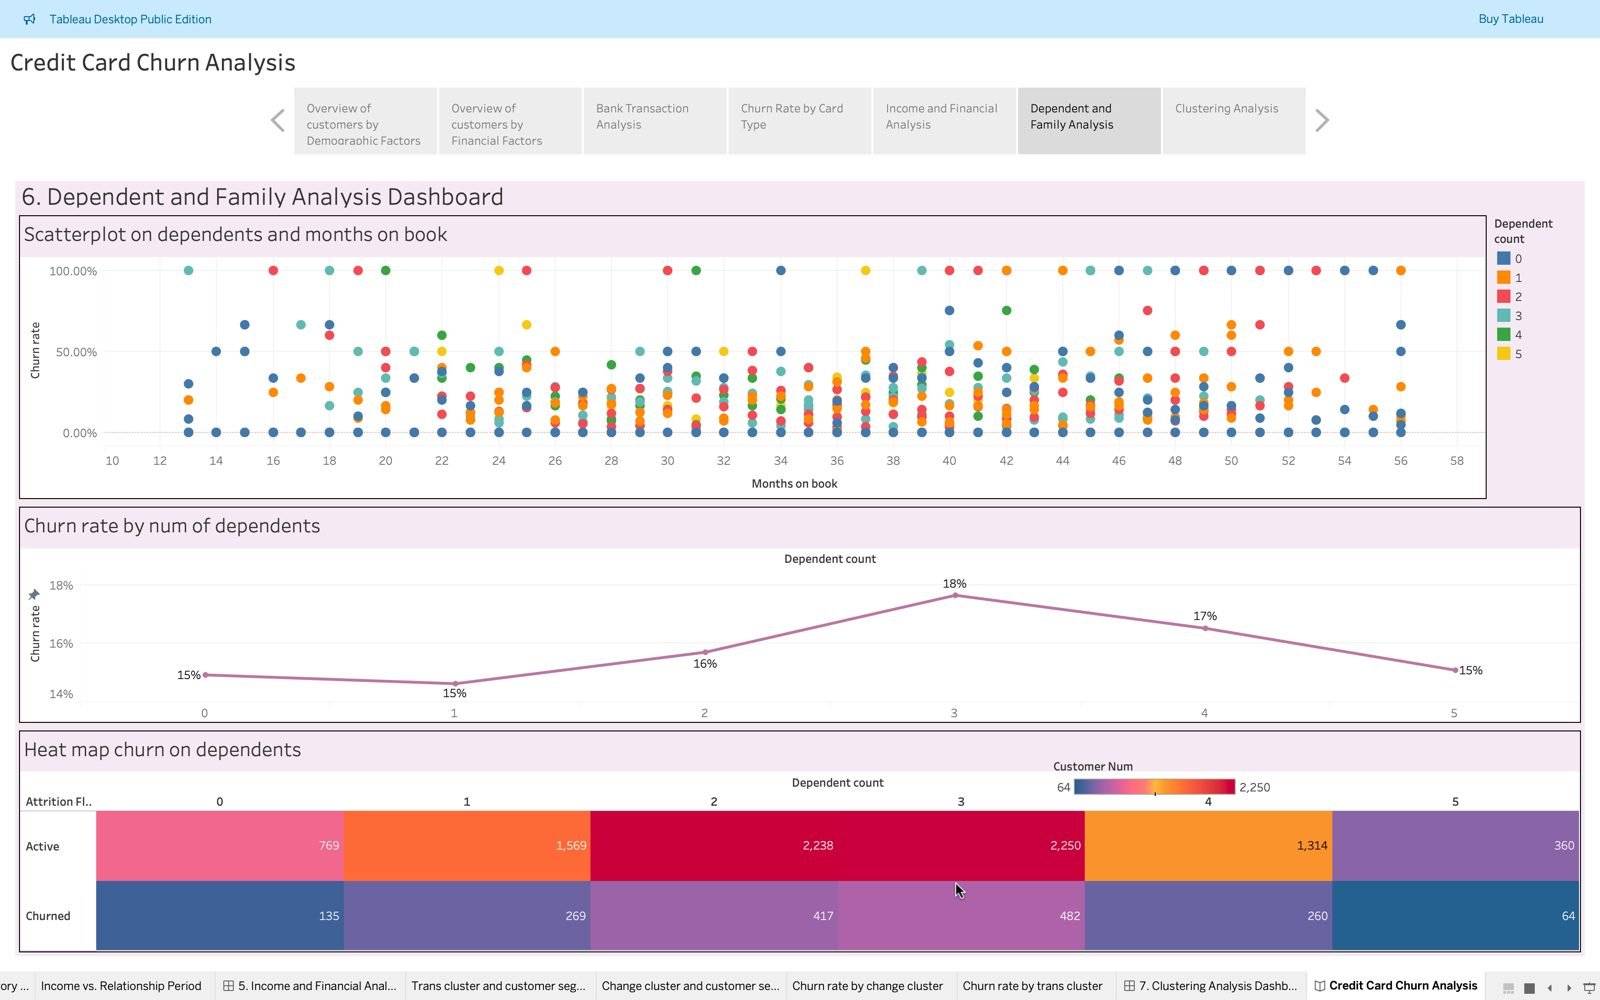

This screenshot's page, from the dashboard's own definition file:
{"tool":"tableau","page":{"name":"6. Dependent and Family Analysis Dashboard","canvas":[1000,1000],"units":"permille","ordinal":5},"visuals":[{"type":"title","box":[5.5,8.7,989.1,34.9]},{"type":"worksheet","title":"Scatterplot on dependents and months on book","mark":"Circle","rows":["Calculation_5717460502736887826"],"cols":["Months_on_book"],"box":[5.5,43.6,929.8,370.6]},{"type":"legend","title":"Scatterplot on dependents and months on book","param":"[federated.0rdieu80g1d7rm18i24471ab21uw].[none:Dependent_count:ok]","box":[935.2,43.6,59.4,370.6]},{"type":"worksheet","title":"Churn rate by num of dependents","mark":"Line","rows":["Calculation_5717460502736887826"],"cols":["Dependent_count"],"box":[5.5,414.2,989.1,284.4]},{"type":"worksheet","title":"Heat map churn on dependents","mark":"Automatic","rows":["Attrition_Flag"],"cols":["Dependent_count"],"box":[5.5,698.6,989.1,292.7]},{"type":"legend","title":"Heat map churn on dependents","param":"[federated.0rdieu80g1d7rm18i24471ab21uw].[usr:Calculation_5506706113541271553:qk","box":[660,740,140,95]}]}

Visuals, with their boxes on the dashboard's canvas, which has no fixed pixel size, in thousandths of its width and height (x1, y1, x2, y2). These are canvas units, not pixel positions in the 1600x1000 screenshot, which may show the page scaled, cropped or inside an application window:
title: bbox=[6, 9, 995, 44]
"Scatterplot on dependents and months on book" worksheet (Circle marks): bbox=[6, 44, 935, 414]
"Scatterplot on dependents and months on book" legend: bbox=[935, 44, 995, 414]
"Churn rate by num of dependents" worksheet (Line marks): bbox=[6, 414, 995, 699]
"Heat map churn on dependents" worksheet: bbox=[6, 699, 995, 991]
"Heat map churn on dependents" legend: bbox=[660, 740, 800, 835]
